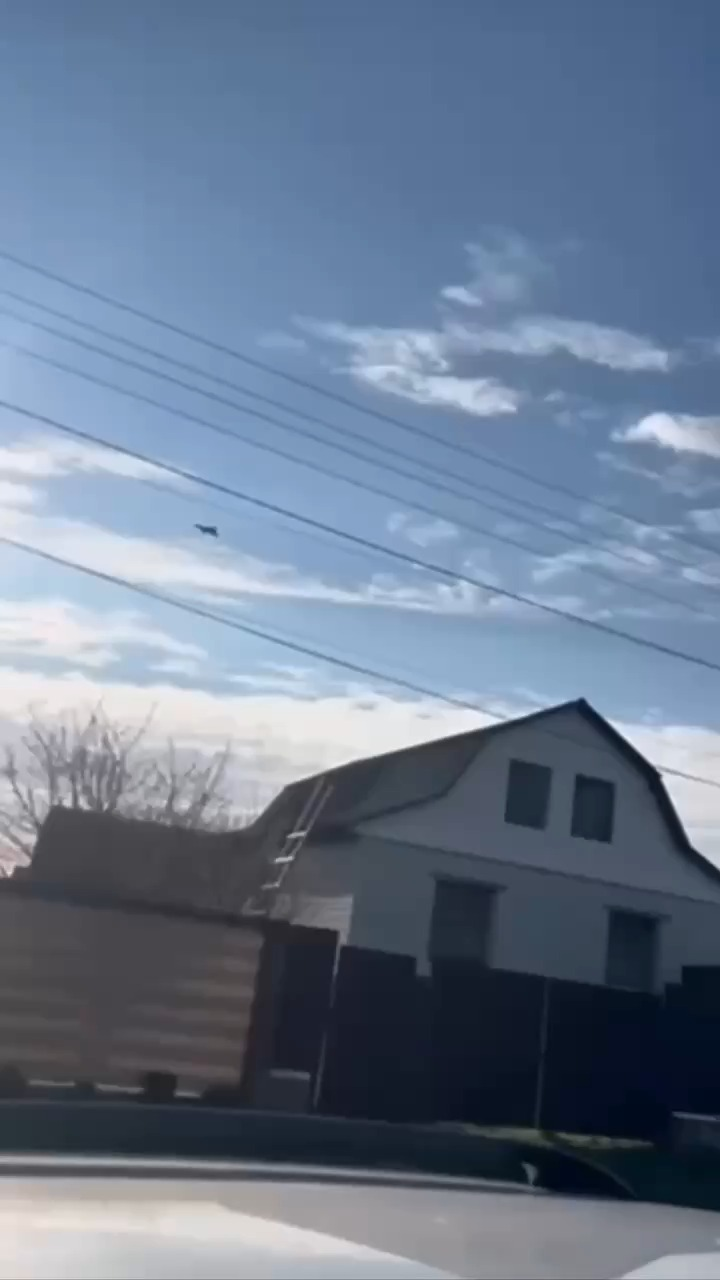shahed: (191, 519, 225, 543)
